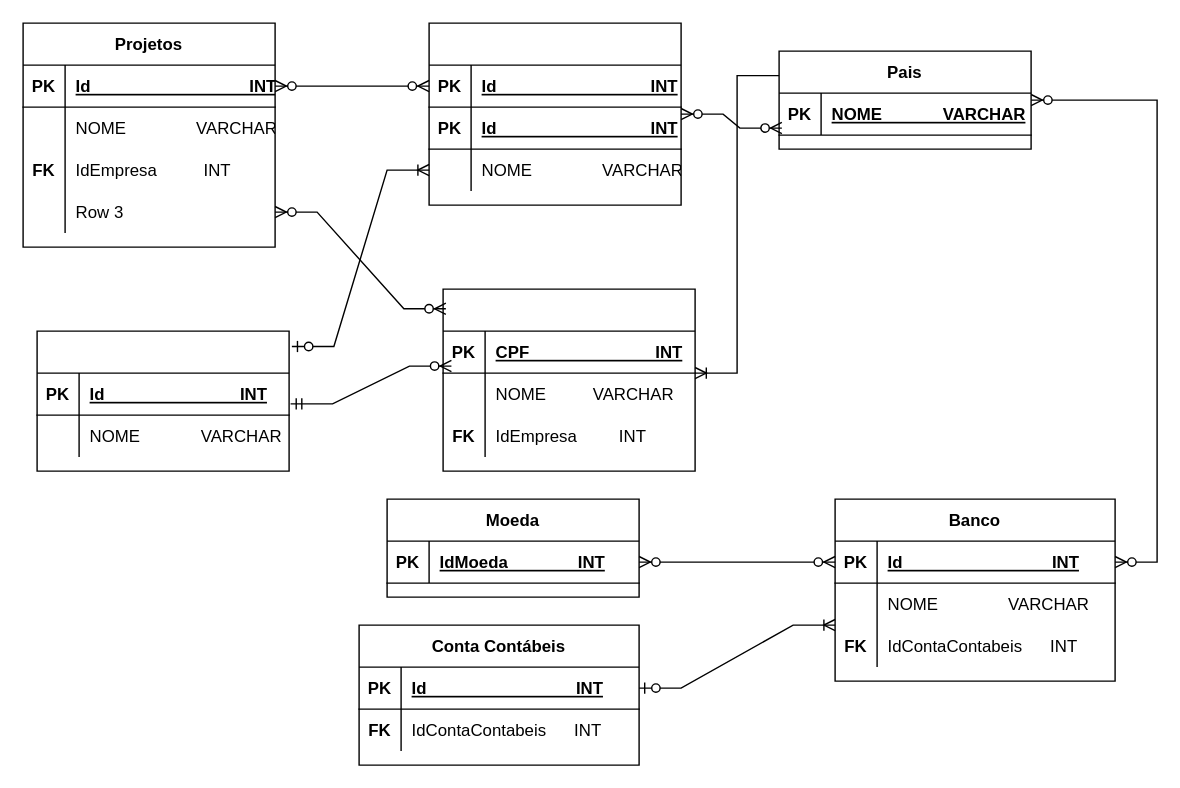
Some shapes in this 1180 by 788 pixel diagram are drawn without their labels. Here are the shapes that lost their labels. From the top down, the box of each, then its label:
(428, 22, 681, 205): Clientes
(442, 288, 695, 471): Funcionarios
(36, 330, 289, 471): Empresa
